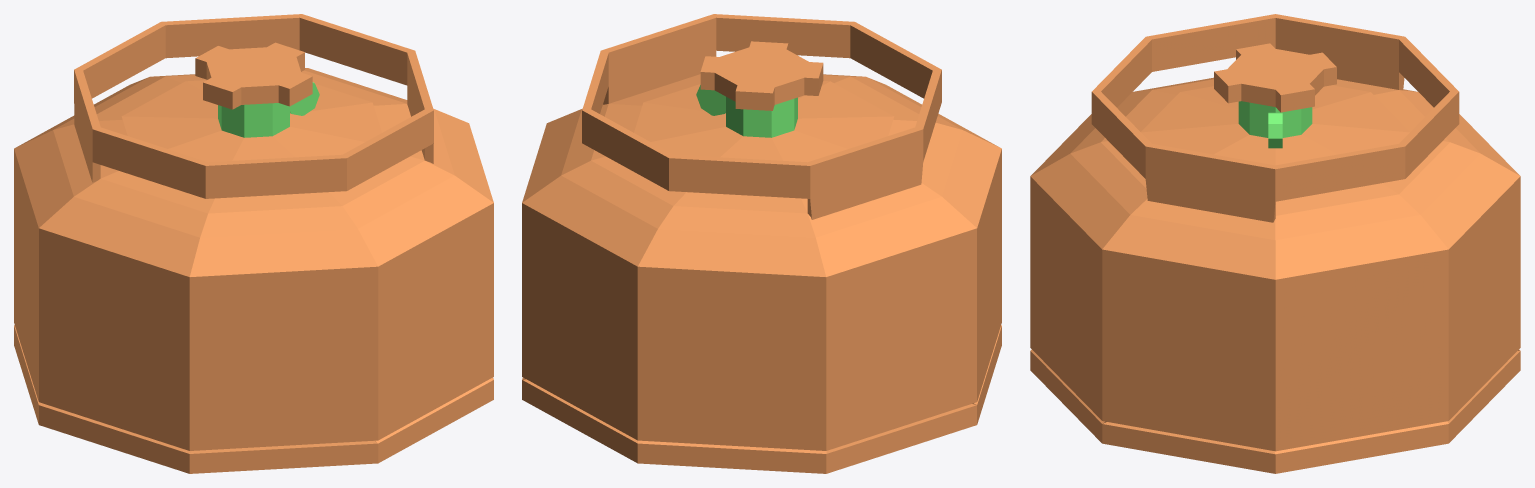
Rendered from Gas_Small.fbx.
The picture shows the model from 3 angles, left to right: view 1: azimuth 30°, elevation 25°; view 2: azimuth 150°, elevation 25°; view 3: azimuth 270°, elevation 25°; orthographic projection.
Parts seen in each view (by area): view 1: Gas_Small; view 2: Gas_Small; view 3: Gas_Small.
Boxes of the visible parts, x1,y1,x2,y2 form: Gas_Small: (14,14,493,473); Gas_Small: (522,14,1001,473); Gas_Small: (1030,14,1520,473).
Bounding box in the file's own units: 178 × 121 × 178.
